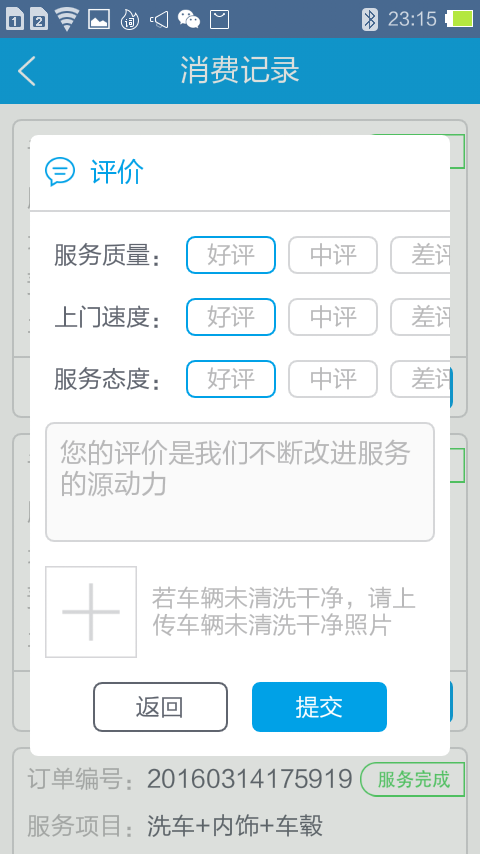alert: (29, 129, 455, 760)
textview: (46, 417, 438, 555), (85, 679, 237, 735)
